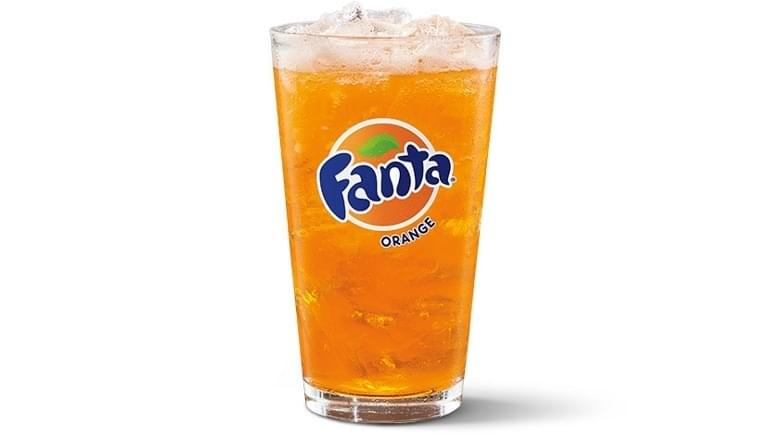Fanta: (240, 20, 493, 437)
